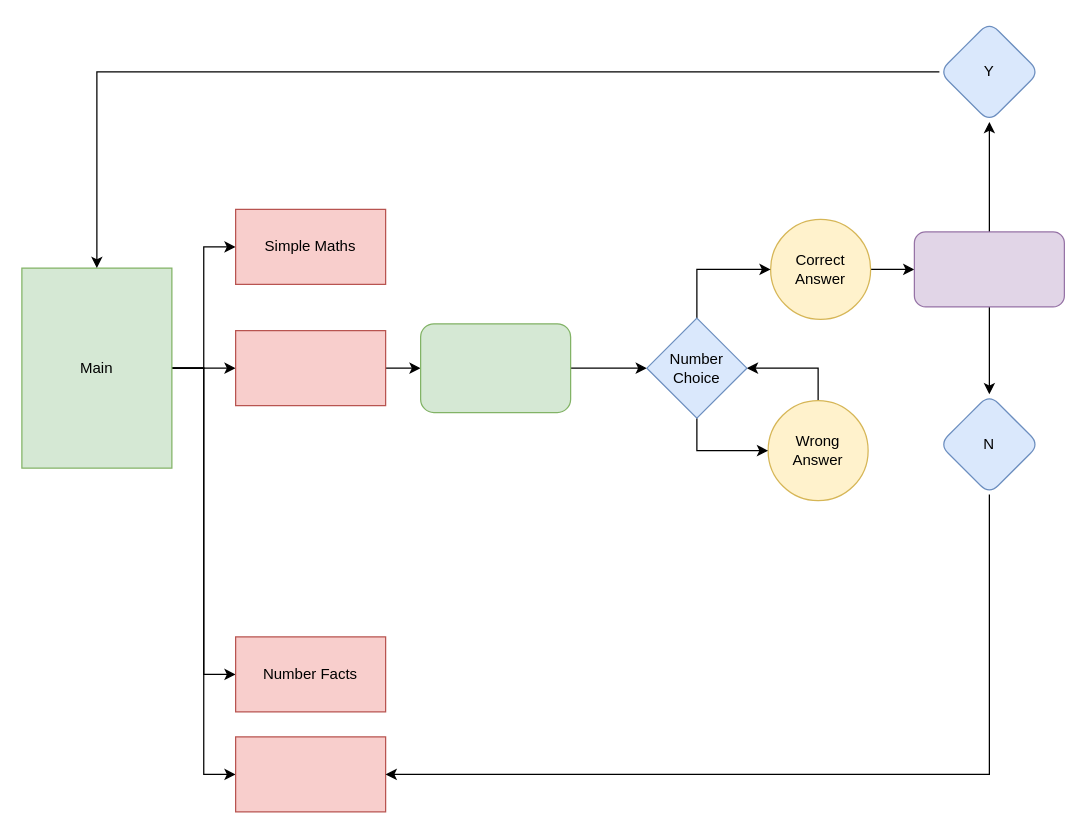
This 1086x834 diagram has some shape labels left out. The box of each missing label's shape, as (x1, y1, x2, y2) in pixels:
Choose a Number Between 1 - 50: (419, 322, 571, 412)
Exit Terminal: (234, 736, 386, 812)
Higher or lower: (234, 329, 386, 406)
Play Again? Y / N: (913, 231, 1064, 307)
